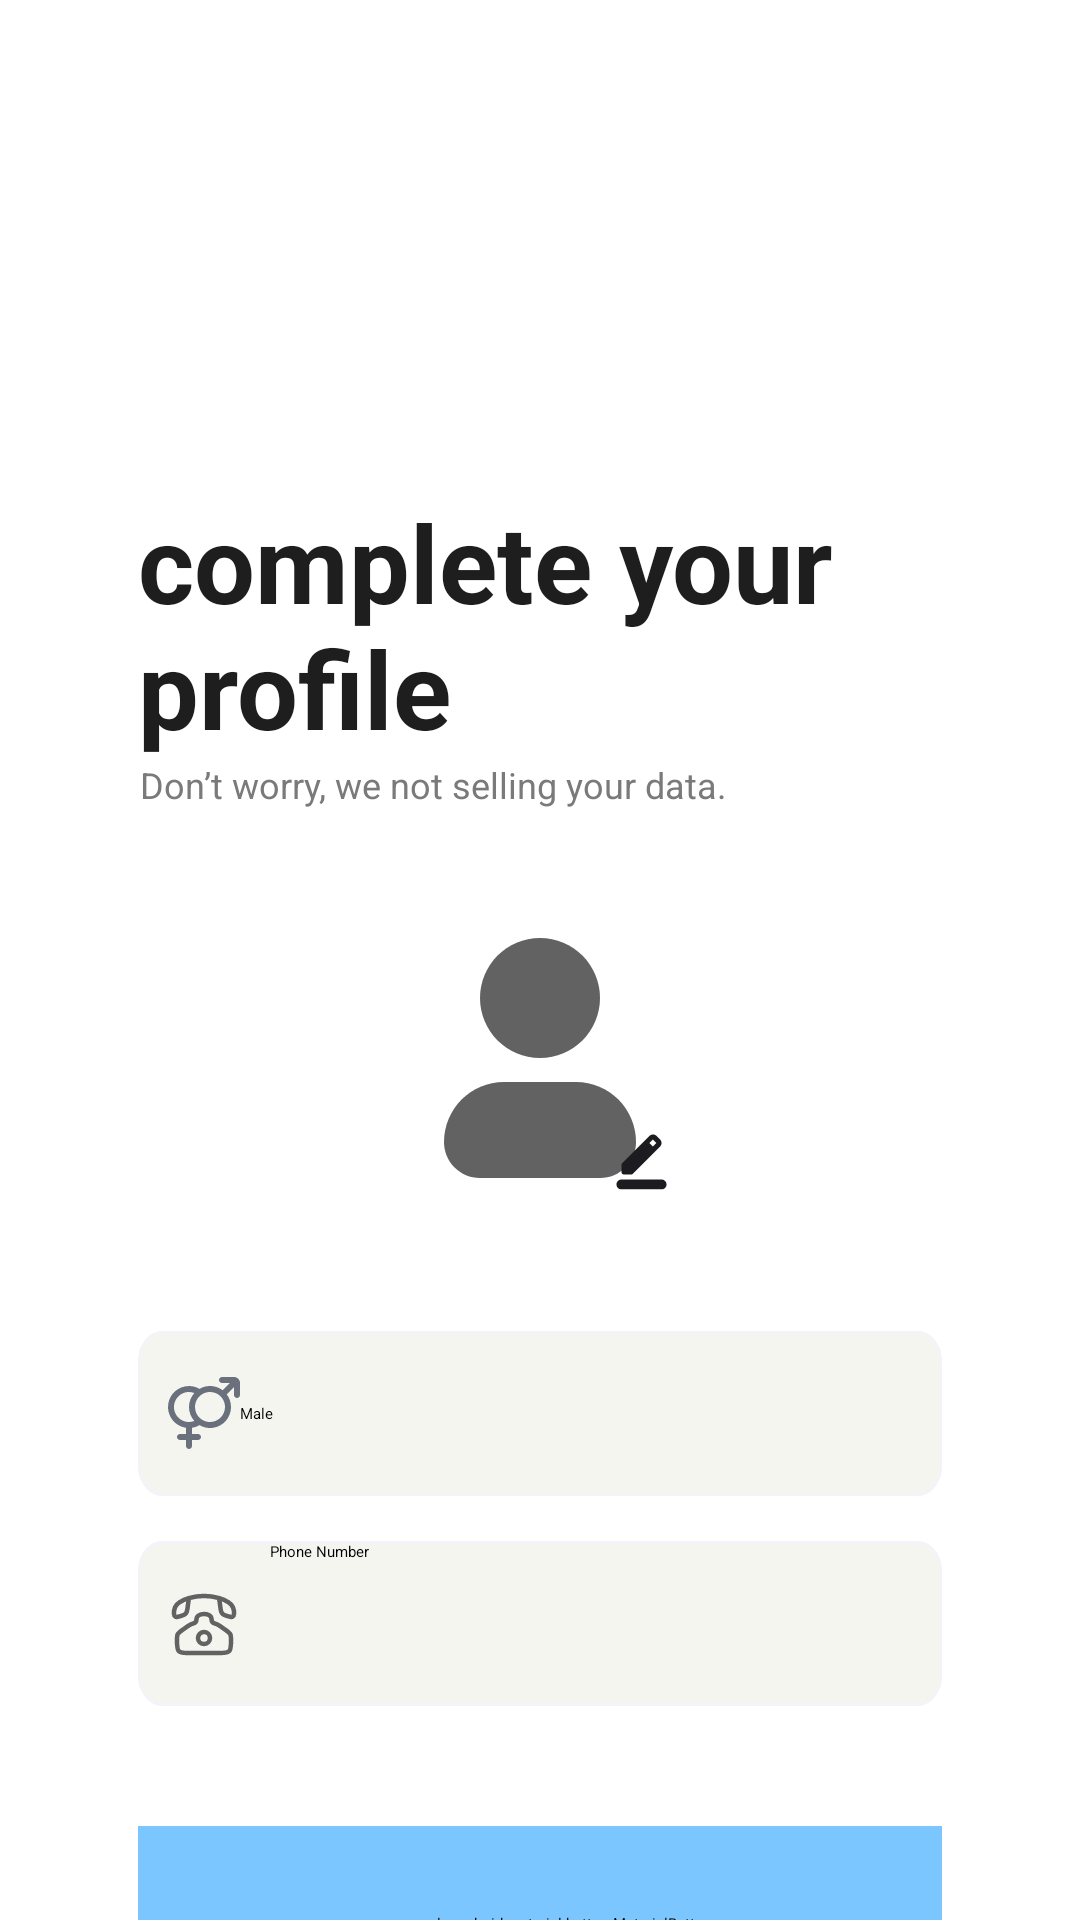

Locate icon controls on the screen. Image size 1080x1920, boxes as (x1, y1, x2, y2).
gender: (168, 1377, 240, 1449)
user: (444, 938, 667, 1190)
